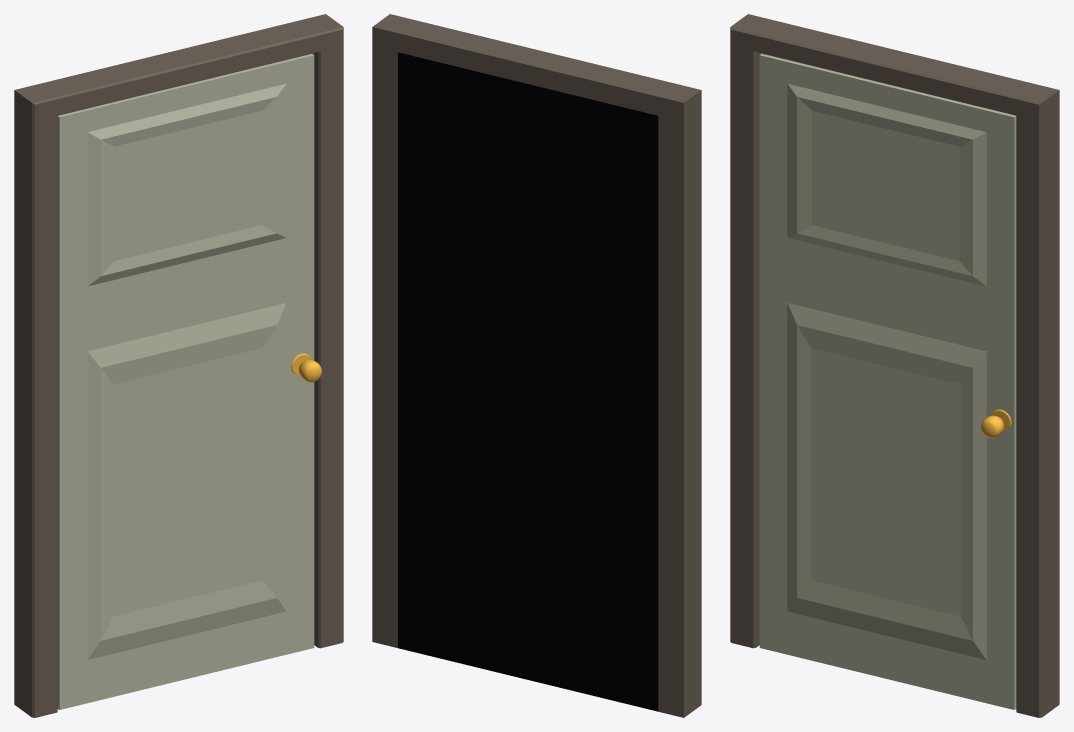
The model's file is Door.fbx.
3 views of the same model, side by side, from view 1: azimuth 30°, elevation 25°; view 2: azimuth 150°, elevation 25°; view 3: azimuth 330°, elevation 25° (orthographic).
Visible parts, largest first — view 1: Door; view 2: Door; view 3: Door.
Boxes of the visible parts, x1=… form: Door: x1=14, y1=14, x2=343, y2=717; Door: x1=372, y1=14, x2=701, y2=717; Door: x1=730, y1=14, x2=1059, y2=717.
Bounding box in the file's own units: 110 × 207 × 18.97.
